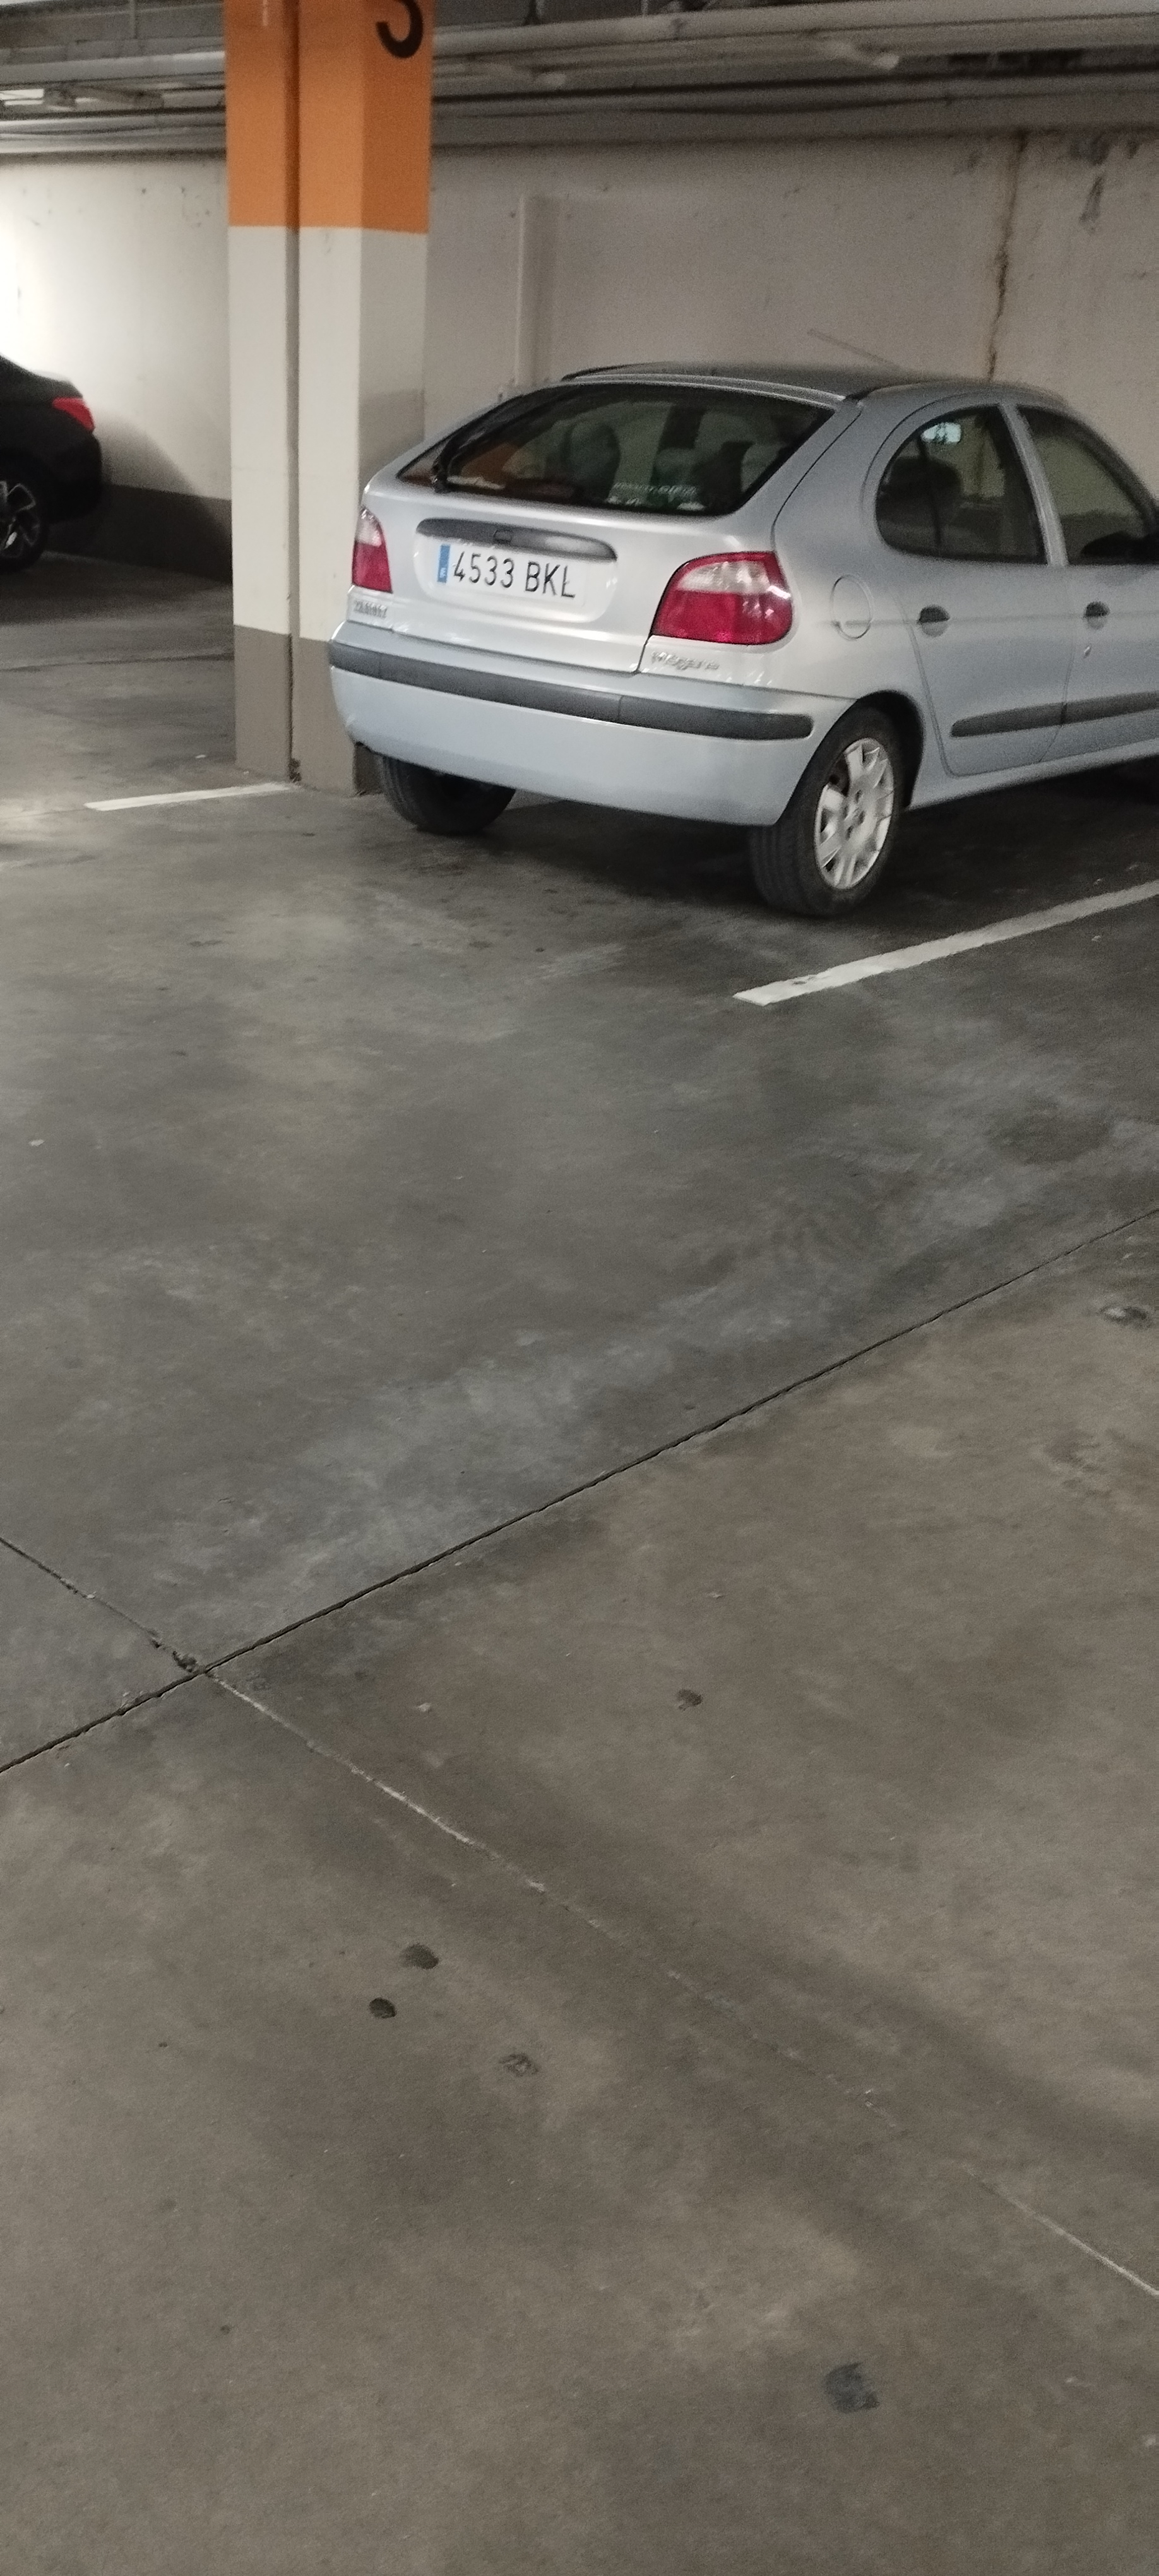Car: (338, 372, 1158, 897)
Plate: (443, 539, 581, 586)
